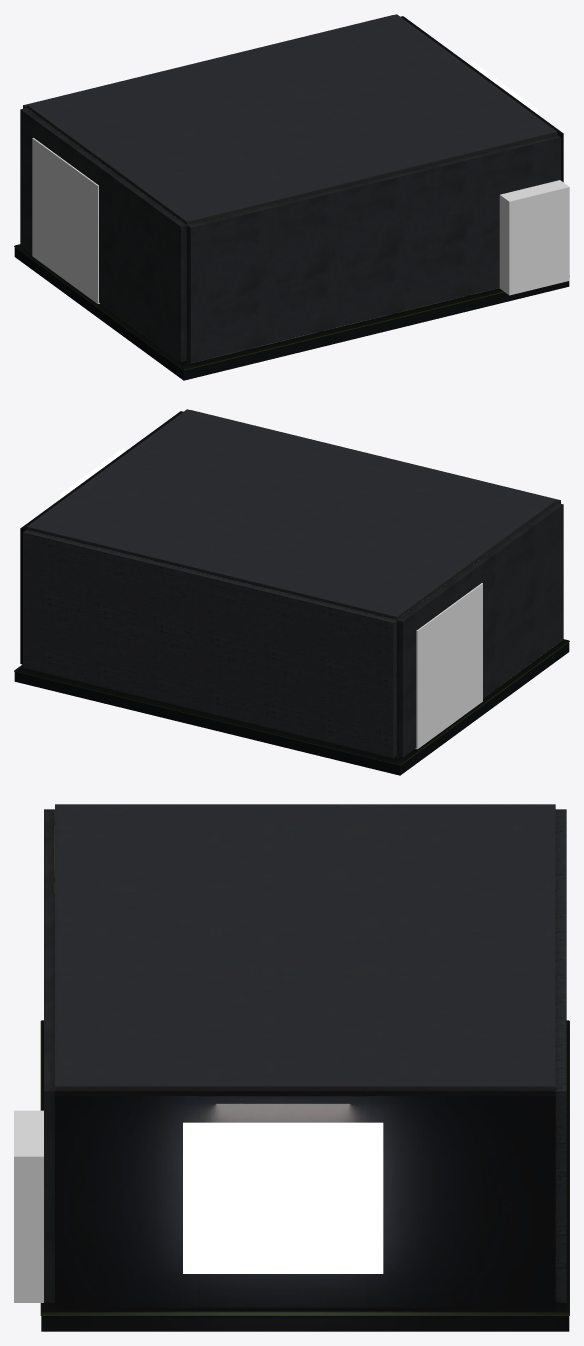
Rendered from produce.glb.
3 views of the same model, one above another, from view 1: azimuth 30°, elevation 25°; view 2: azimuth 150°, elevation 25°; view 3: azimuth 270°, elevation 25° (orthographic). The views are drawn at different scales.
Parts seen in each view (by area): view 1: bake_ceiling, bake_wall_front, bake_wall_left, bake_floor, hit_hot_shoot, hit_hot_ideas, bake_wall_right; view 2: bake_ceiling, bake_wall_back, bake_wall_left, bake_floor, hit_hot_shoot, bake_wall_right; view 3: bake_ceiling, bake_wall_right, win_right0_sky, bake_floor, bake_wall_back, hit_hot_ideas, bake_wall_front.
Boxes of the visible parts, x1=… form: bake_ceiling: x1=26, y1=14, x2=557, y2=224; bake_wall_front: x1=187, y1=135, x2=560, y2=363; bake_wall_left: x1=20, y1=108, x2=186, y2=362; bake_floor: x1=14, y1=244, x2=569, y2=380; hit_hot_shoot: x1=32, y1=138, x2=99, y2=303; hit_hot_ideas: x1=499, y1=180, x2=569, y2=295; bake_wall_right: x1=400, y1=16, x2=563, y2=182; bake_ceiling: x1=26, y1=409, x2=557, y2=619; bake_wall_back: x1=23, y1=530, x2=396, y2=758; bake_wall_left: x1=397, y1=503, x2=563, y2=757; bake_floor: x1=14, y1=639, x2=569, y2=775; hit_hot_shoot: x1=415, y1=583, x2=482, y2=749; bake_wall_right: x1=20, y1=411, x2=183, y2=664; bake_ceiling: x1=55, y1=804, x2=555, y2=1091; bake_wall_right: x1=55, y1=1091, x2=555, y2=1307; win_right0_sky: x1=183, y1=1122, x2=383, y2=1273; bake_floor: x1=40, y1=1020, x2=569, y2=1331; bake_wall_back: x1=555, y1=809, x2=566, y2=1302; hit_hot_ideas: x1=14, y1=1110, x2=43, y2=1302; bake_wall_front: x1=44, y1=809, x2=54, y2=1302.
Size of the model in its own units: 12.96 by 4.76 by 10.
31 materials, 15 textured.
